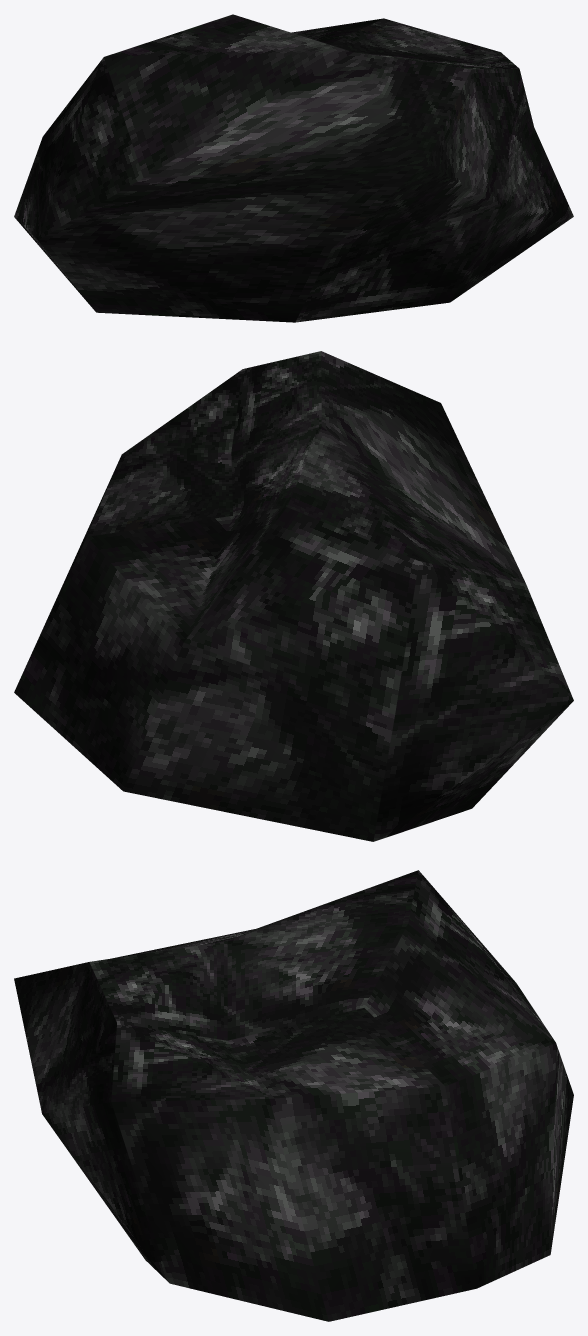
3 views of the same model, one above another, from view 1: azimuth 30°, elevation 25°; view 2: azimuth 150°, elevation 25°; view 3: azimuth 270°, elevation 25° (orthographic). The views are drawn at different scales.
Visible parts, largest first — view 1: mn_el34; view 2: mn_el34; view 3: mn_el34.
Part boxes in pixels (box(x1,y1,x2,y2)): mn_el34: box(14, 14, 573, 322); mn_el34: box(14, 351, 573, 841); mn_el34: box(14, 870, 573, 1321).
Bounding box in the file's own units: 0.4984 × 0.2775 × 0.4367.
1 material, 1 textured.
